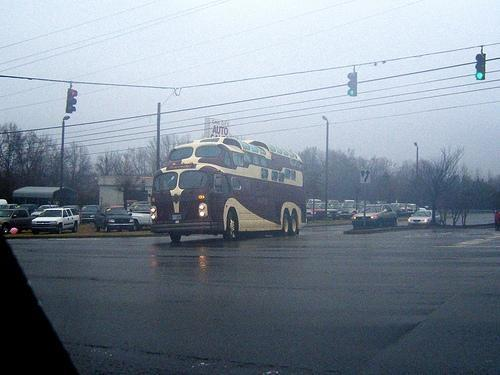bus: (154, 139, 310, 235)
car: (352, 202, 400, 230), (0, 208, 32, 234), (404, 206, 446, 225), (129, 210, 151, 232), (82, 204, 100, 224), (33, 204, 59, 216), (494, 206, 500, 230)
truck: (32, 208, 82, 236), (94, 207, 135, 232), (0, 209, 37, 233)
